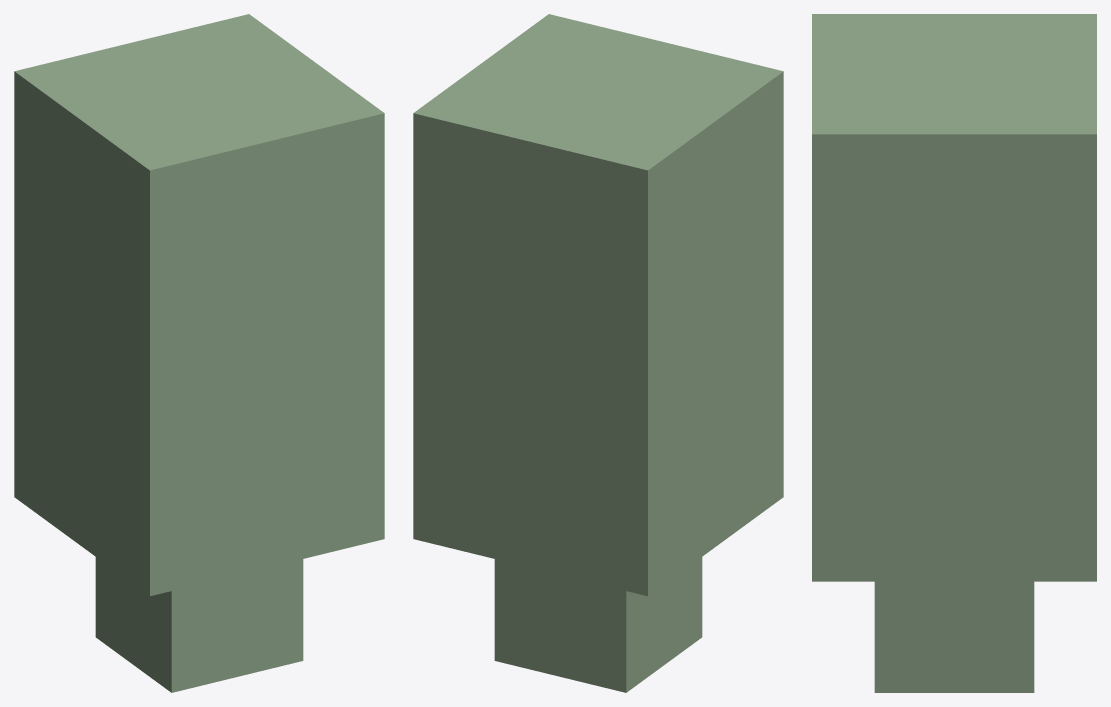
Rendered from plant-tree-1700.glb.
3 renders of one model, left to right at view 1: azimuth 30°, elevation 25°; view 2: azimuth 150°, elevation 25°; view 3: azimuth 270°, elevation 25°, orthographic. The views are drawn at different scales.
Parts seen in each view (by area): view 1: plant-tree-1700; view 2: plant-tree-1700; view 3: plant-tree-1700.
Boxes of the visible parts, <box> form: plant-tree-1700: <box>14,14,384,692</box>; plant-tree-1700: <box>413,14,783,692</box>; plant-tree-1700: <box>812,14,1096,692</box>.
Size of the model in its own units: 0.75 by 1.7 by 0.75.
